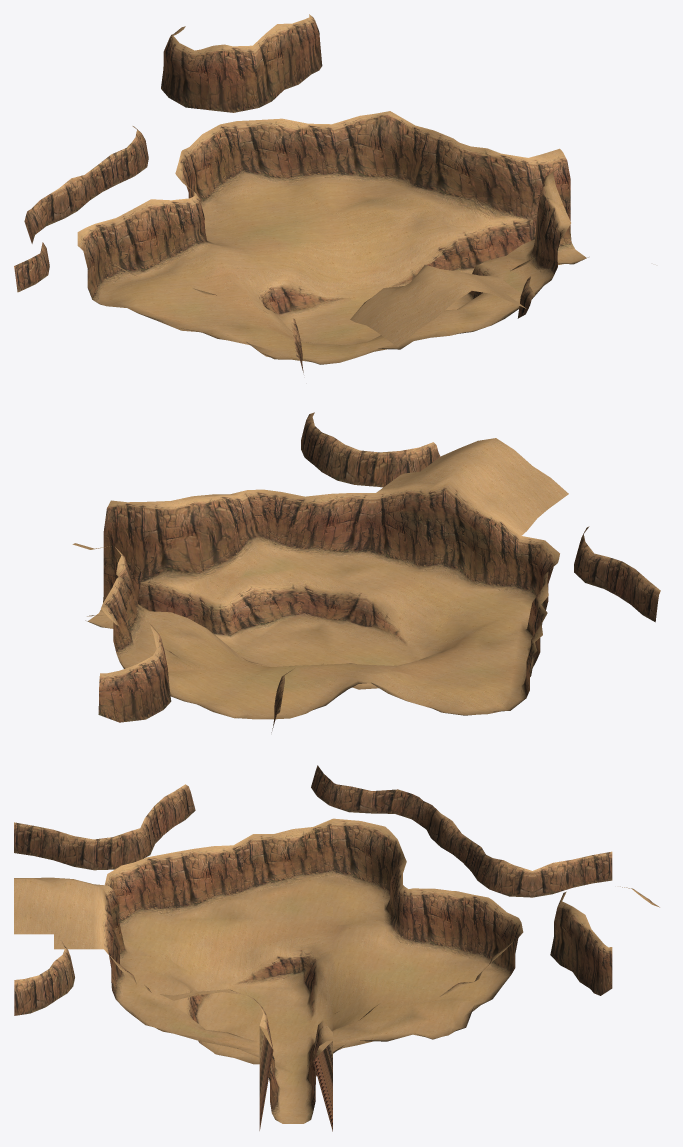
Rendered from Zone01.glb.
3 renders of one model, top to bottom at view 1: azimuth 30°, elevation 25°; view 2: azimuth 150°, elevation 25°; view 3: azimuth 270°, elevation 25°, orthographic. The views are drawn at different scales.
Visible parts, largest first — view 1: ZONE01088, ZONE01135, ZONE01141, ZONE01134, ZONE01146, ZONE01107, ZONE01115, ZONE01108, ZONE01140, ZONE01126, ZONE01089, ZONE01149 (+61 smaller); view 2: ZONE01021, ZONE01023, ZONE01022, ZONE01074, ZONE01073, ZONE01037, ZONE01025, ZONE01024, ZONE01049, ZONE01061, ZONE01047, ZONE01059 (+67 smaller); view 3: ZONE01041, ZONE01063, ZONE01120, ZONE01092, ZONE01030, ZONE01051, ZONE01077, ZONE01066, ZONE01089, ZONE01109, ZONE01131, ZONE01074 (+78 smaller).
Boxes of the visible parts, left/top/right/bottom form: ZONE01088: left=479, top=157, right=532, bottom=257; ZONE01135: left=332, top=113, right=384, bottom=185; ZONE01141: left=236, top=118, right=289, bottom=186; ZONE01134: left=290, top=123, right=347, bottom=192; ZONE01146: left=210, top=44, right=258, bottom=112; ZONE01107: left=116, top=199, right=168, bottom=281; ZONE01115: left=407, top=130, right=472, bottom=206; ZONE01108: left=151, top=198, right=205, bottom=270; ZONE01140: left=202, top=121, right=252, bottom=199; ZONE01126: left=385, top=117, right=433, bottom=190; ZONE01089: left=528, top=148, right=580, bottom=259; ZONE01149: left=168, top=43, right=210, bottom=109; ZONE01021: left=470, top=501, right=526, bottom=597; ZONE01023: left=397, top=475, right=453, bottom=577; ZONE01022: left=433, top=475, right=489, bottom=589; ZONE01074: left=93, top=500, right=148, bottom=621; ZONE01073: left=138, top=502, right=197, bottom=613; ZONE01037: left=266, top=492, right=323, bottom=567; ZONE01025: left=323, top=493, right=375, bottom=561; ZONE01024: left=360, top=482, right=416, bottom=569; ZONE01049: left=200, top=494, right=265, bottom=577; ZONE01061: left=149, top=494, right=213, bottom=580; ZONE01047: left=281, top=567, right=338, bottom=629; ZONE01059: left=224, top=575, right=281, bottom=636; ZONE01041: left=173, top=849, right=213, bottom=919; ZONE01063: left=253, top=834, right=293, bottom=900; ZONE01120: left=413, top=888, right=452, bottom=955; ZONE01092: left=333, top=818, right=372, bottom=885; ZONE01030: left=133, top=844, right=173, bottom=918; ZONE01051: left=213, top=834, right=253, bottom=899; ZONE01077: left=293, top=819, right=332, bottom=880; ZONE01066: left=246, top=936, right=293, bottom=988; ZONE01089: left=293, top=1020, right=332, bottom=1131; ZONE01109: left=373, top=885, right=412, bottom=952; ZONE01131: left=452, top=897, right=492, bottom=970; ZONE01074: left=258, top=1003, right=293, bottom=1130.
Bounding box in the file's own units: 120 × 33.36 × 131.
Materials: 8 (8 with a texture image).
